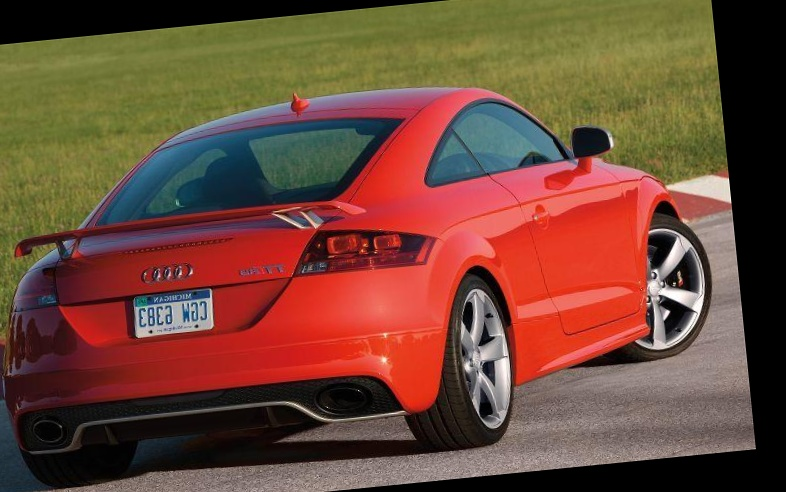car: (0, 28, 751, 492)
